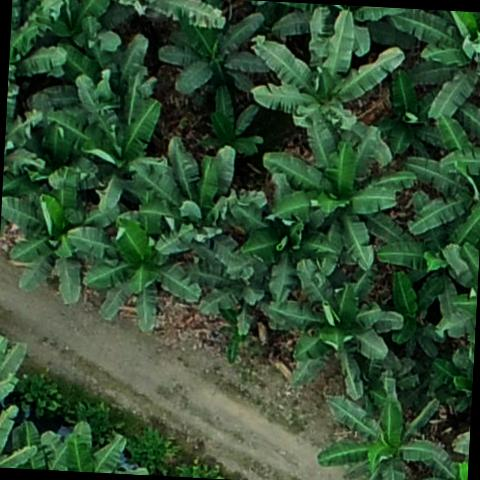Banana-plant: (261, 136, 408, 276), (250, 4, 403, 133), (261, 264, 403, 399), (72, 216, 201, 336), (45, 94, 160, 206), (0, 174, 97, 305), (129, 138, 239, 253), (324, 379, 447, 480), (30, 17, 152, 112), (230, 183, 328, 301), (152, 5, 270, 97), (409, 121, 480, 247), (196, 236, 274, 348), (378, 227, 480, 305), (419, 9, 480, 120), (11, 0, 117, 39)
